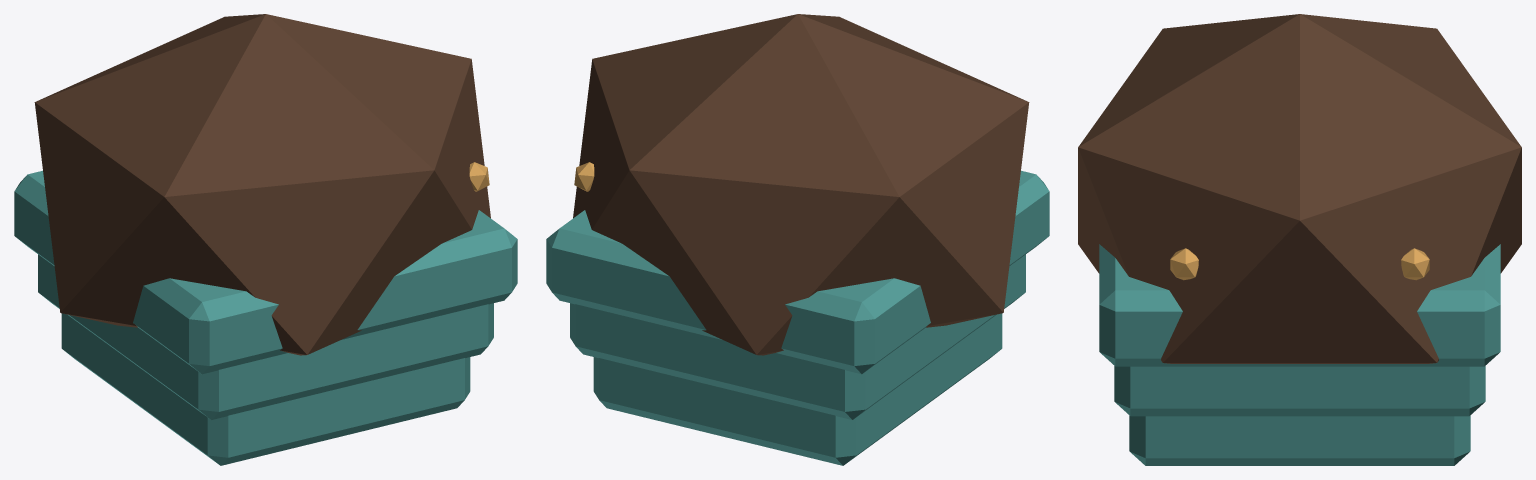
Rendered from SM_Life_Shoulder_Hunter.fbx.
The picture shows the model from 3 angles, left to right: view 1: azimuth 30°, elevation 25°; view 2: azimuth 150°, elevation 25°; view 3: azimuth 270°, elevation 25°; orthographic projection. The views are drawn at different scales.
Visible parts, largest first — view 1: SM_Life_Shoulder_Hunter; view 2: SM_Life_Shoulder_Hunter; view 3: SM_Life_Shoulder_Hunter.
Boxes of the visible parts, <box> form: SM_Life_Shoulder_Hunter: <box>14,14,517,465</box>; SM_Life_Shoulder_Hunter: <box>546,14,1049,465</box>; SM_Life_Shoulder_Hunter: <box>1078,14,1521,465</box>.
Size of the model in its own units: 25.04 by 21.5 by 22.12.
